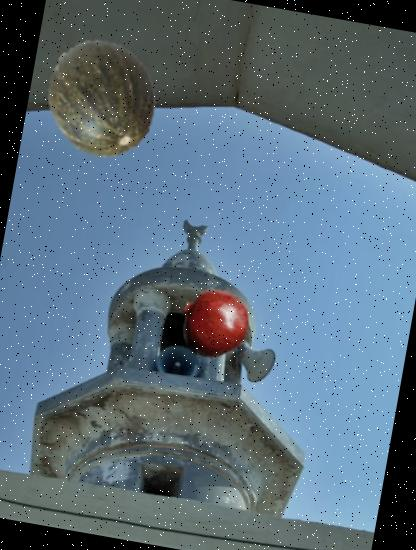Melon: (34, 30, 170, 166)
Pomegranate: (173, 282, 255, 364)
